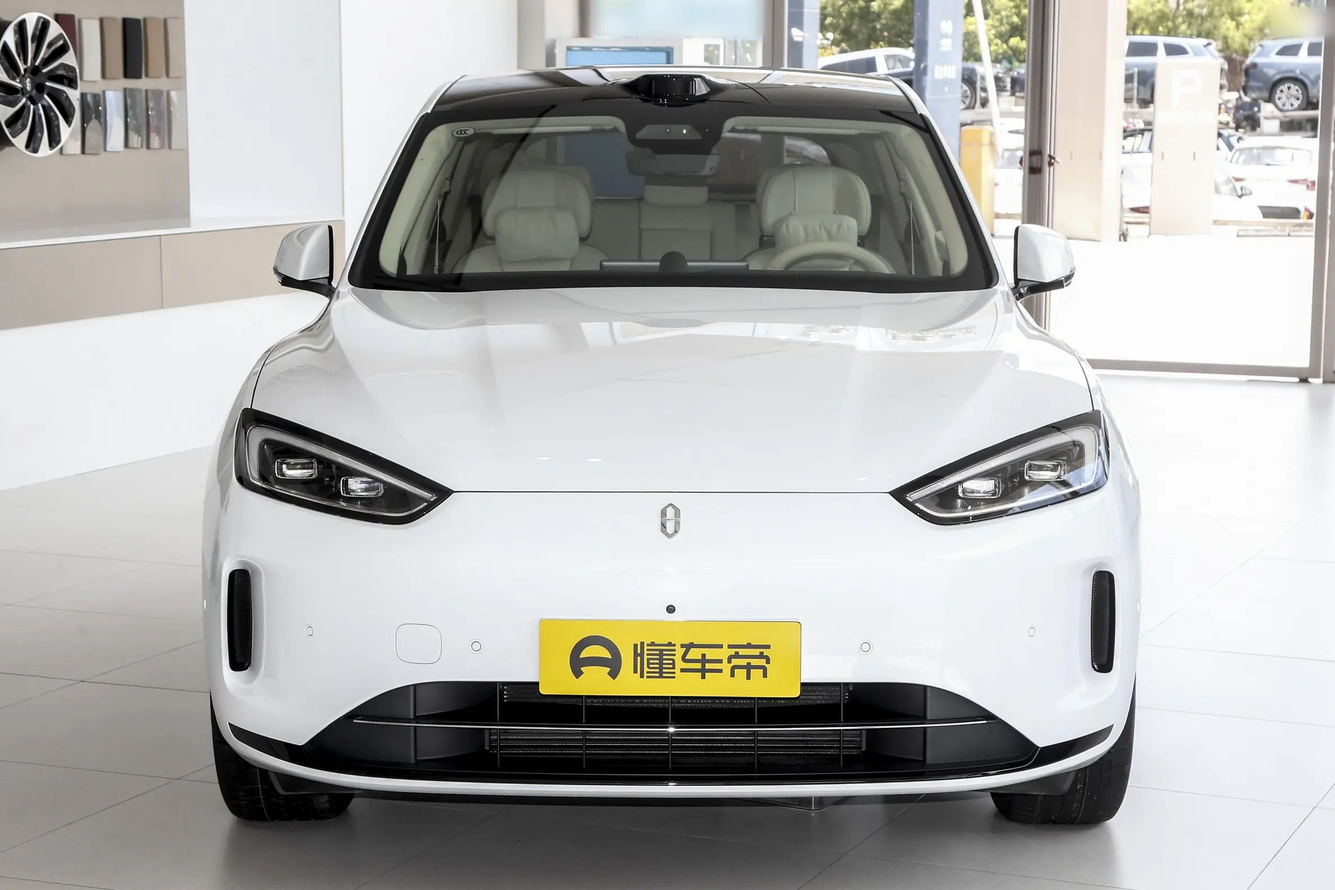AITO: (661, 504, 680, 538)
